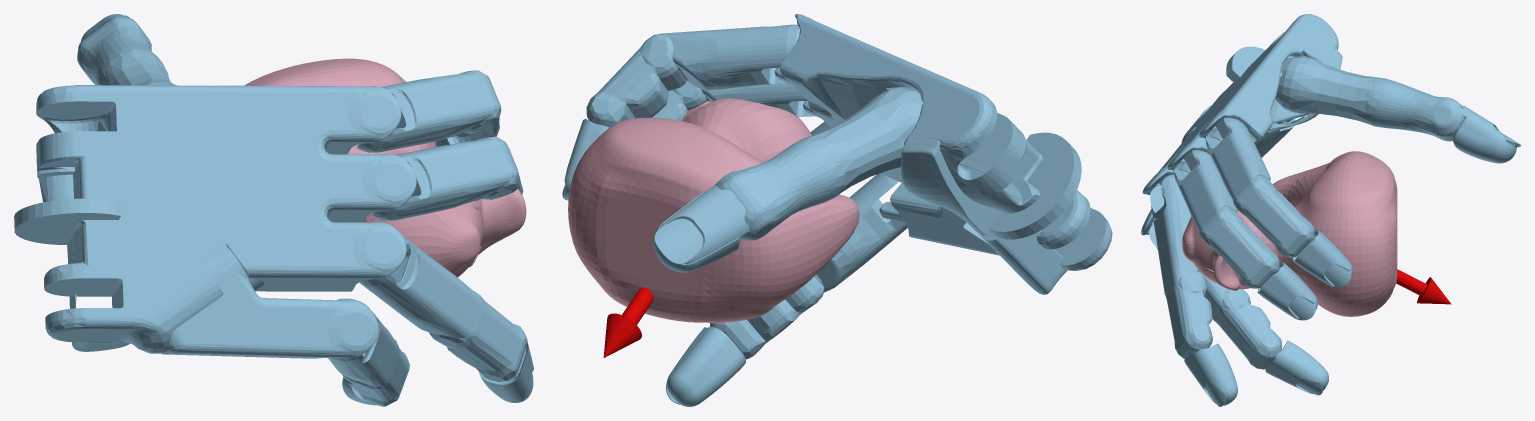
3 renders of one model, left to right at view 1: azimuth 30°, elevation 25°; view 2: azimuth 150°, elevation 25°; view 3: azimuth 270°, elevation 25°, orthographic. The views are drawn at different scales.
Parts seen in each view (by area): view 1: world, rubber_duck.stl; view 2: world, rubber_duck.stl; view 3: world, rubber_duck.stl.
Part boxes in pixels (box(x1,y1,x2,y2)): world: box(14, 14, 533, 406); rubber_duck.stl: box(244, 58, 526, 277); world: box(562, 14, 1112, 406); rubber_duck.stl: box(568, 98, 859, 322); world: box(1141, 14, 1520, 406); rubber_duck.stl: box(1182, 151, 1397, 316).
Size of the model in its own units: 0.1779 by 0.1355 by 0.1692.
